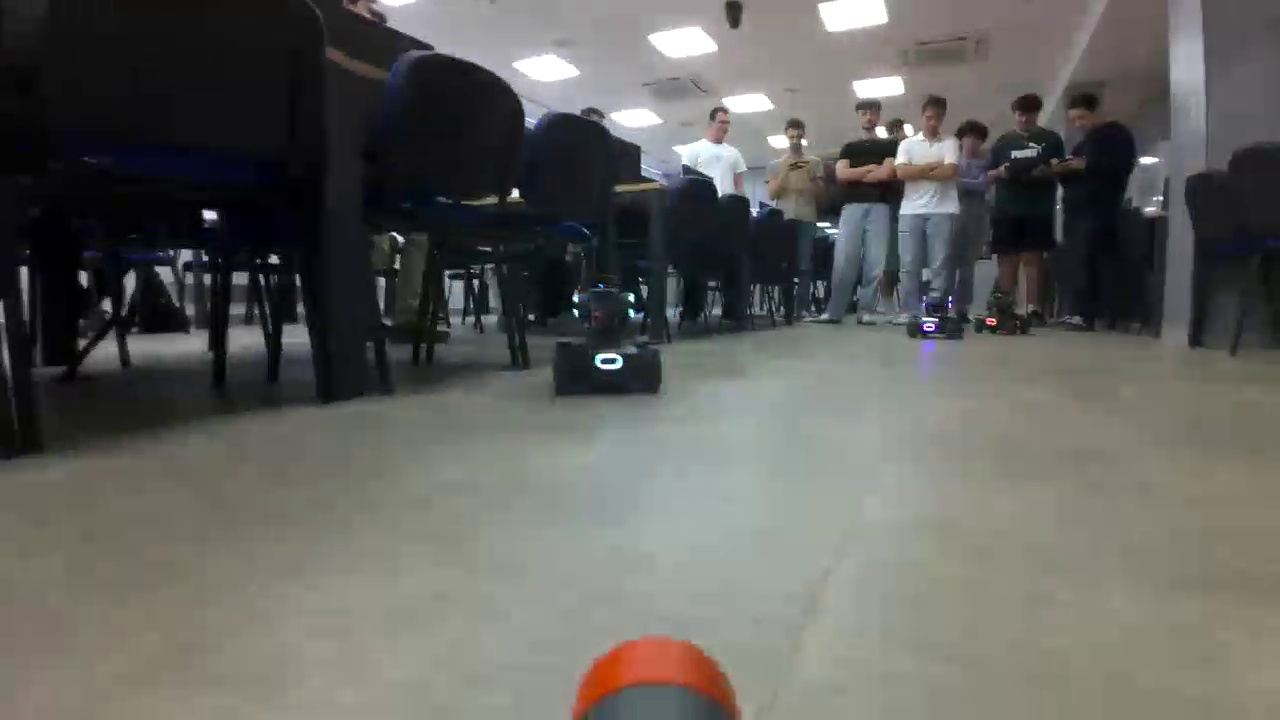robot: (552, 283, 662, 415), (972, 292, 1032, 340), (905, 300, 948, 340)
